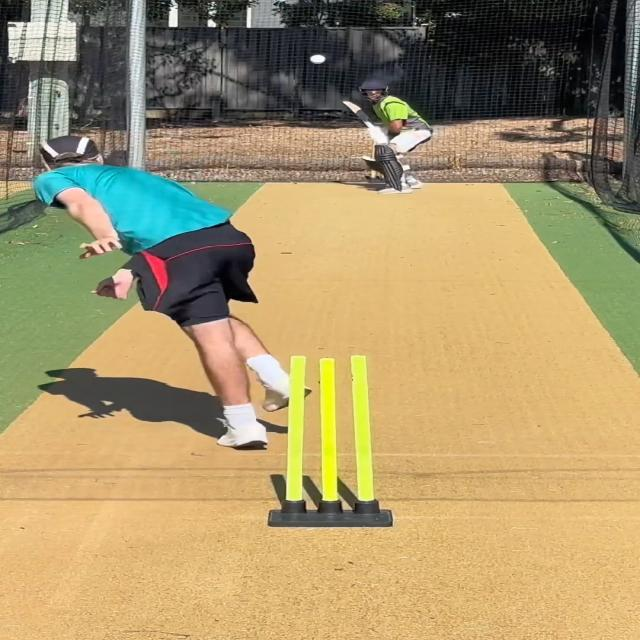ball: (308, 54, 330, 67)
stump: (271, 353, 393, 529)
